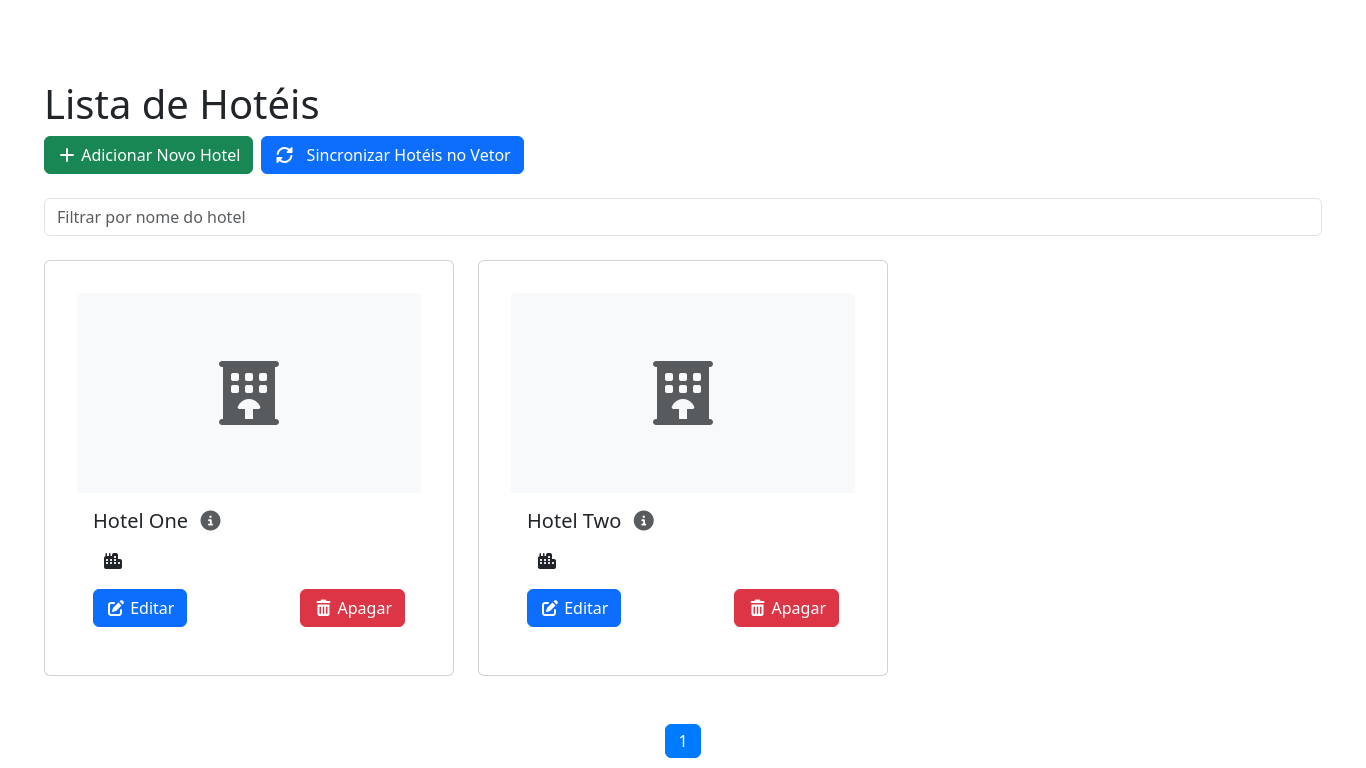
HotelList component › renders hotel list and filters hotels
This screenshot has width=1366, height=768.
expect the heading "Hotel One" is shown: met, box [93, 507, 223, 534]
expect the heading "Hotel Two" is shown: met, box [527, 507, 656, 534]
Type "One" into the field with placeholder "Filtrar por nome do hotel" at (683, 217), box [44, 198, 1322, 236]
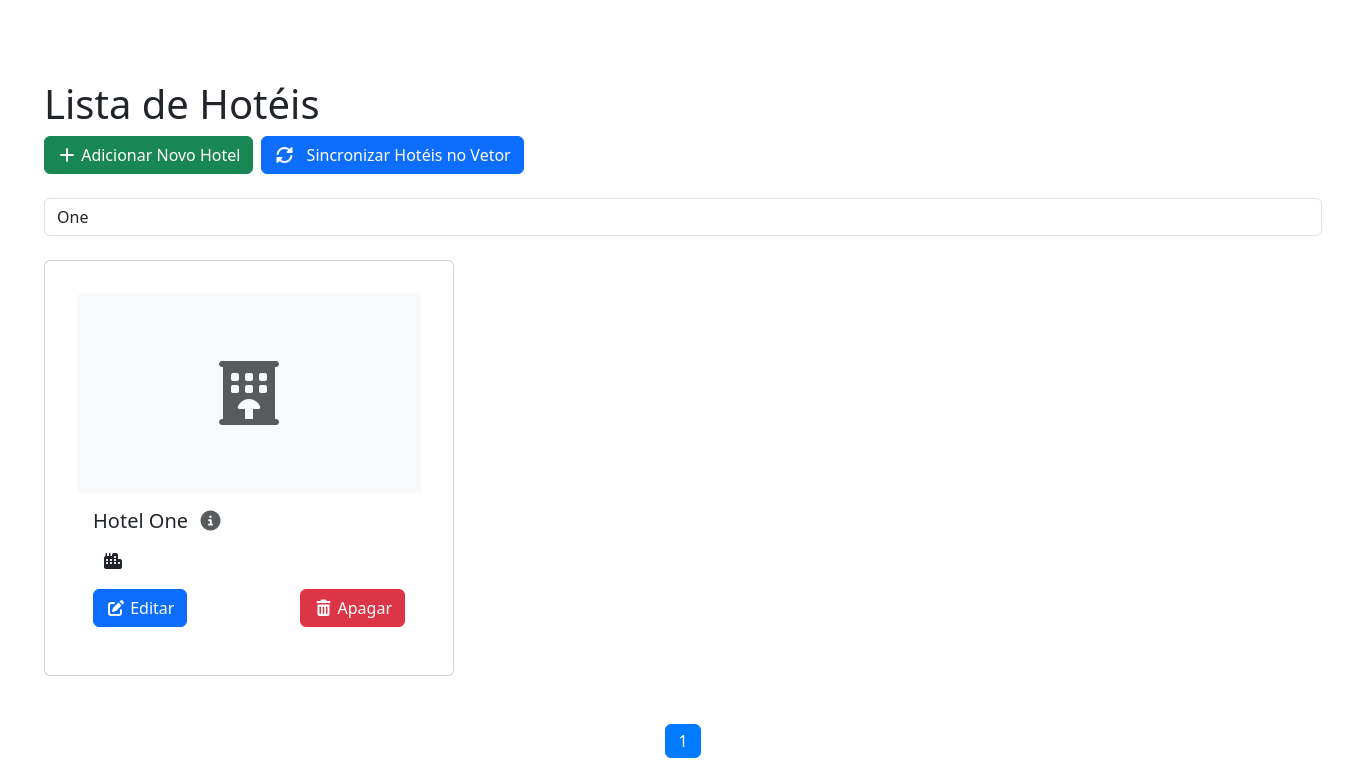
expect the heading "Hotel One" is shown: met, box [93, 507, 223, 534]
expect the heading "Hotel Two" is gone: met
